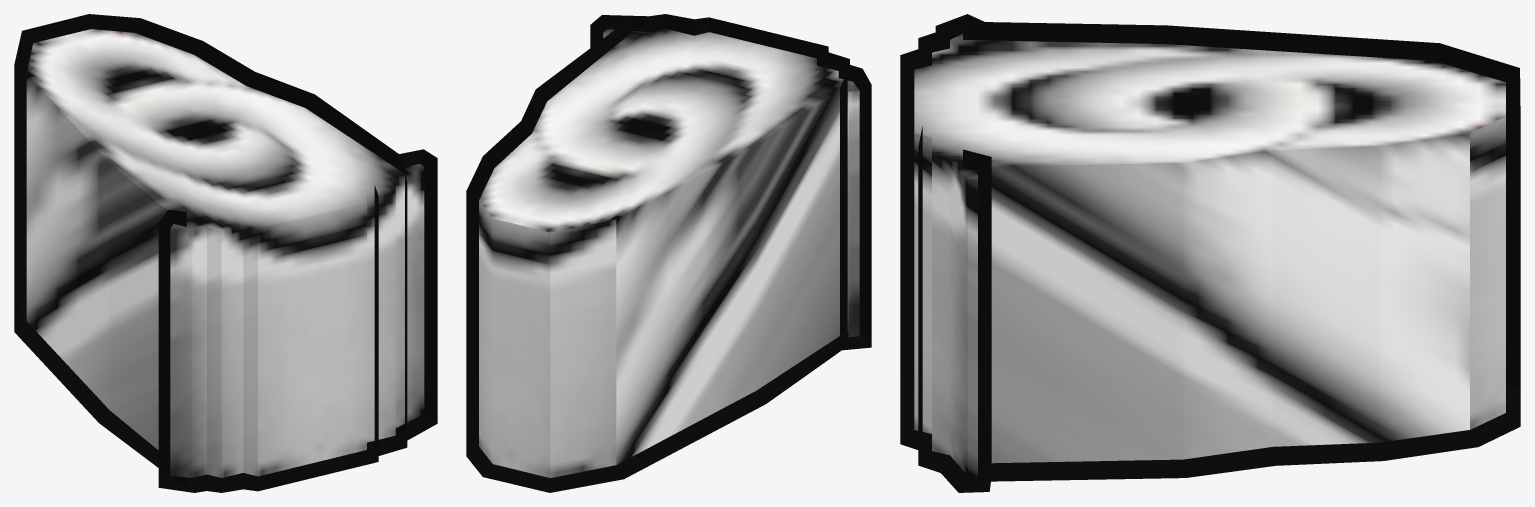
The model's file is Building_SculptureSmall_Things_Building_Art_SculptureSmall_SculptureSmallAbstractB.glb.
3 views of the same model, side by side, from view 1: azimuth 30°, elevation 25°; view 2: azimuth 150°, elevation 25°; view 3: azimuth 270°, elevation 25° (orthographic). The views are drawn at different scales.
Visible parts, largest first — view 1: Body, Outline; view 2: Body, Outline; view 3: Body, Outline.
Boxes of the visible parts, x1,y1,x2,y2 form: Body: (26, 29, 424, 477); Outline: (14, 14, 437, 492); Body: (479, 28, 859, 477); Outline: (466, 14, 871, 492); Body: (914, 34, 1505, 476); Outline: (900, 14, 1520, 492).
Bounding box in the file's own units: 0.5929 × 0.571 × 0.9647.
Materials: 2 (1 with a texture image).
